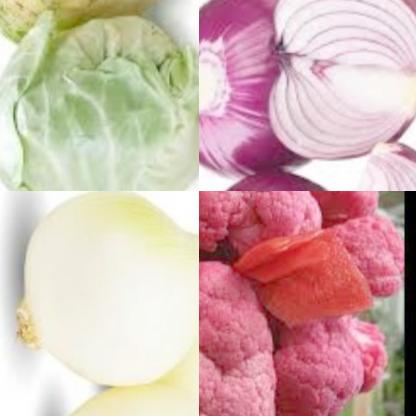brus capusta: (0, 21, 199, 191), (0, 0, 199, 49)
cayliflower: (249, 311, 394, 416), (199, 191, 404, 259), (199, 257, 282, 416), (348, 207, 404, 301)
onion: (11, 191, 199, 390), (258, 0, 416, 169), (199, 0, 328, 180), (310, 130, 416, 191)
